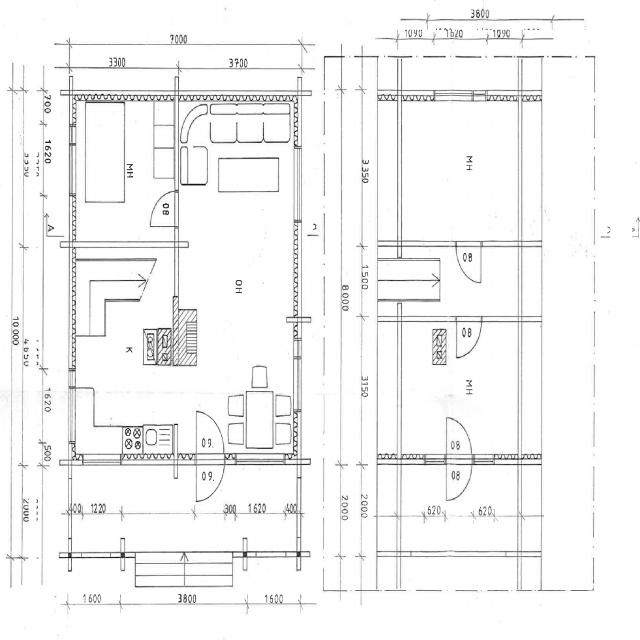door: (196, 414, 224, 465), (196, 454, 224, 504), (446, 455, 472, 500), (446, 419, 472, 464), (456, 316, 482, 358), (456, 241, 481, 282), (150, 191, 178, 226)
